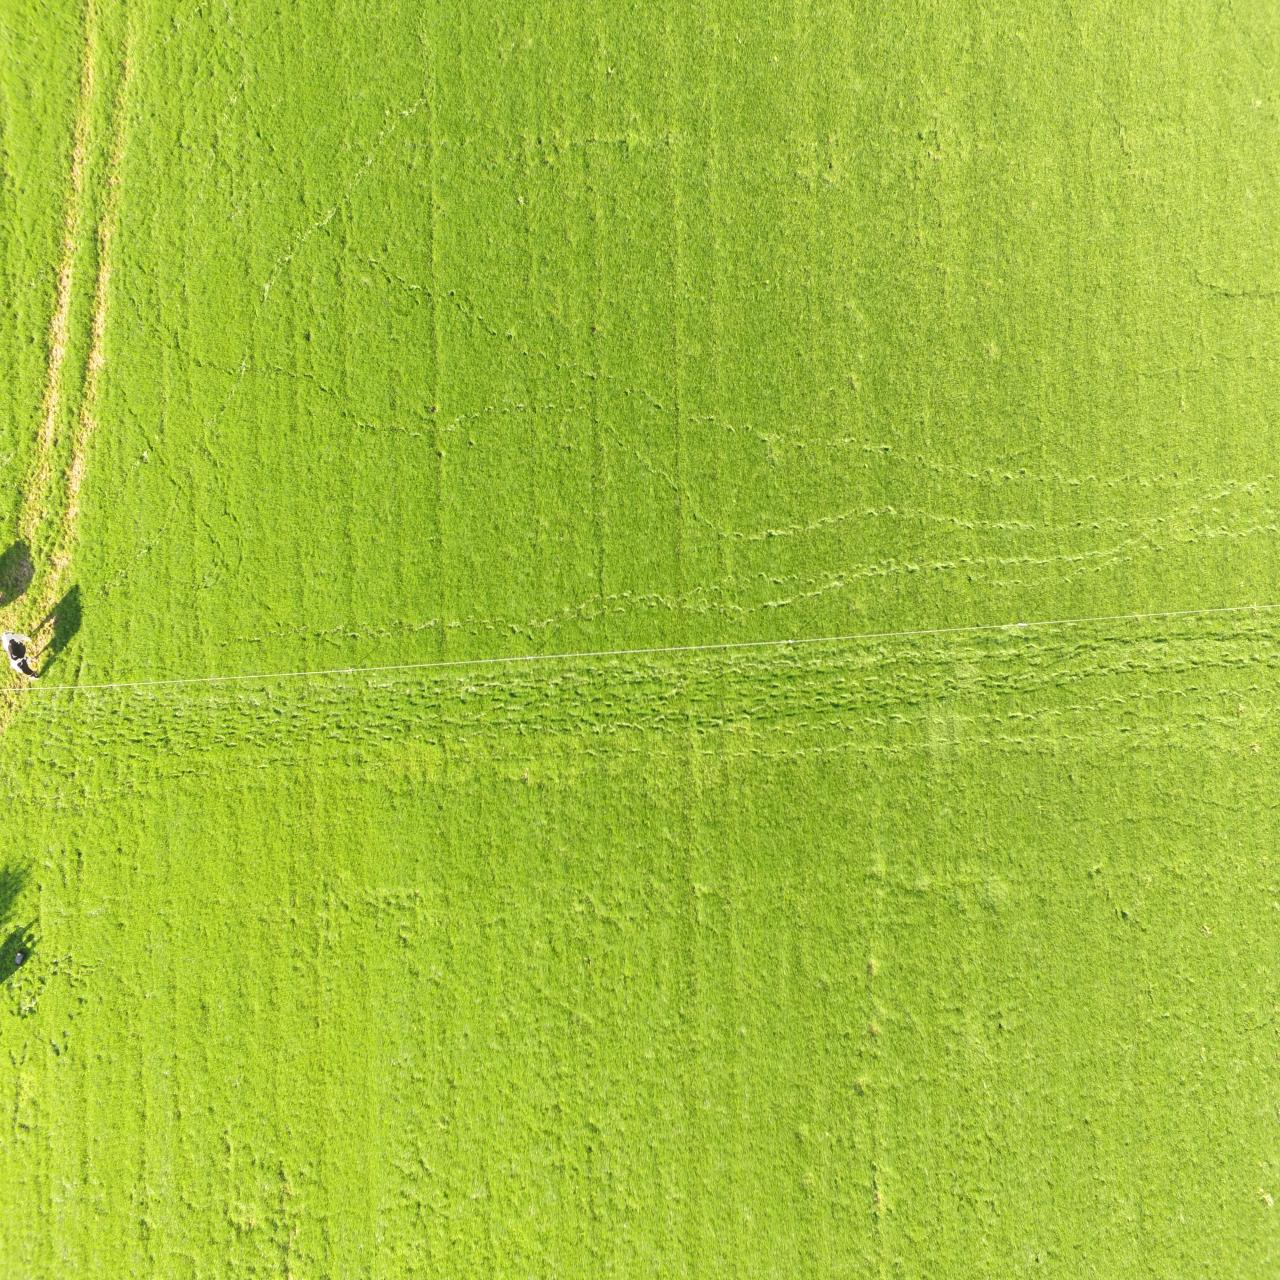cow: (0, 626, 45, 686)
